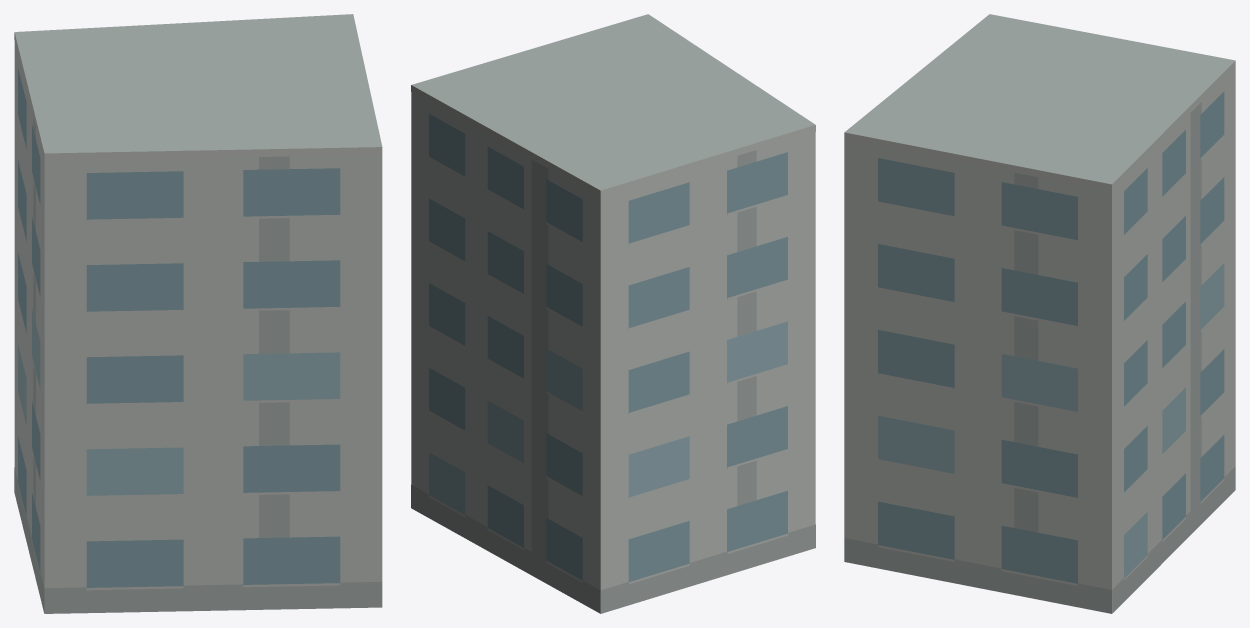
Rendered from survey-upis-33035993.glb.
3 renders of one model, left to right at view 1: azimuth 30°, elevation 25°; view 2: azimuth 150°, elevation 25°; view 3: azimuth 270°, elevation 25°, orthographic. The views are drawn at different scales.
Visible parts, largest first — view 1: survey-upis-33035993.tmp; view 2: survey-upis-33035993.tmp; view 3: survey-upis-33035993.tmp.
Part boxes in pixels (left/top/right/bottom): survey-upis-33035993.tmp: left=14, top=14, right=382, bottom=613; survey-upis-33035993.tmp: left=411, top=14, right=815, bottom=613; survey-upis-33035993.tmp: left=844, top=14, right=1235, bottom=613.
Size of the model in its own units: 12.39 by 14.55 by 12.03.
